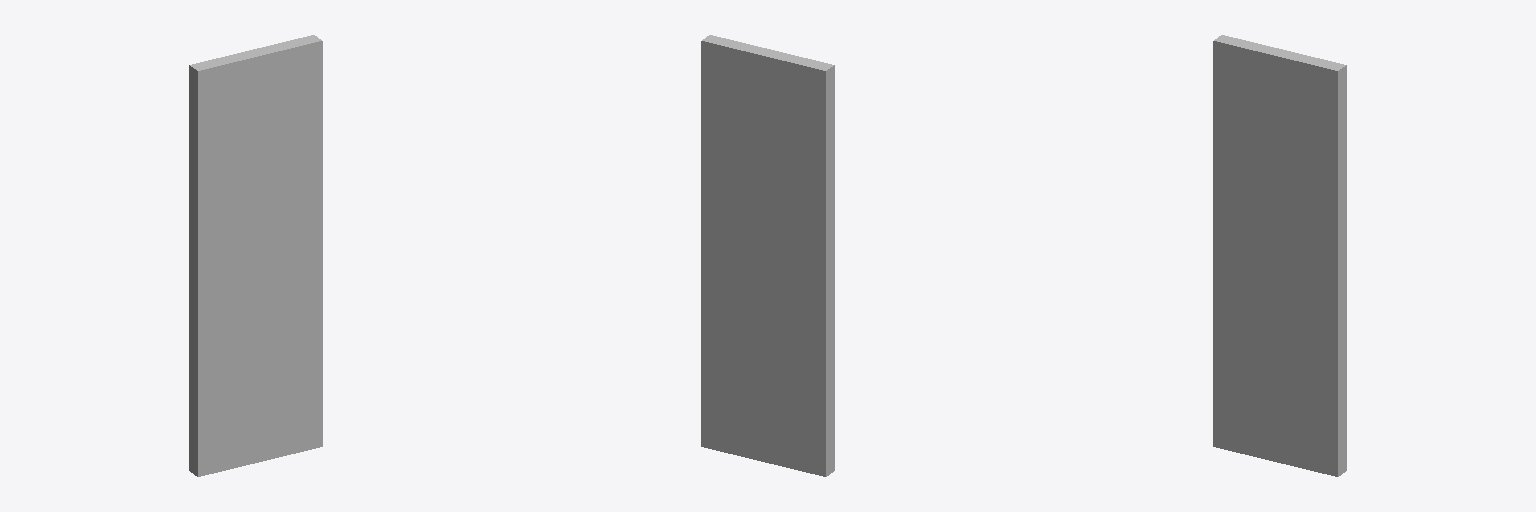
Rendered from StoneVeneer.obj.
3 renders of one model, left to right at view 1: azimuth 30°, elevation 25°; view 2: azimuth 150°, elevation 25°; view 3: azimuth 330°, elevation 25°, orthographic.
Visible parts, largest first — view 1: StoneVeneer.obj; view 2: StoneVeneer.obj; view 3: StoneVeneer.obj.
Part boxes in pixels (x1,y1,x2,y2): StoneVeneer.obj: (189, 35, 322, 476); StoneVeneer.obj: (701, 35, 834, 476); StoneVeneer.obj: (1213, 35, 1346, 476).
Bounding box in the file's own units: 0.8795 × 2.74 × 0.1016.